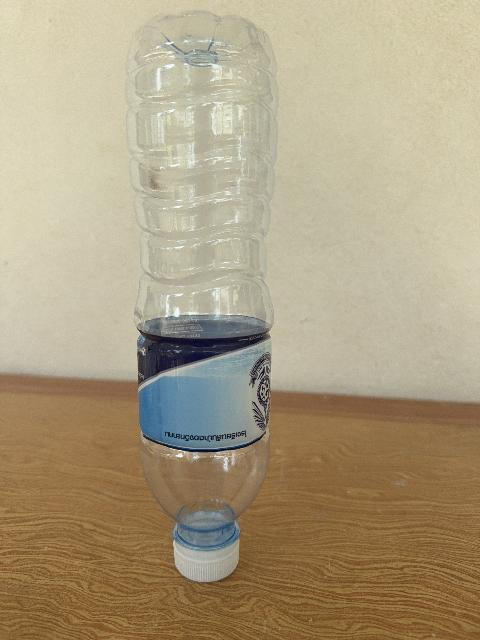bottle: (126, 12, 277, 581)
